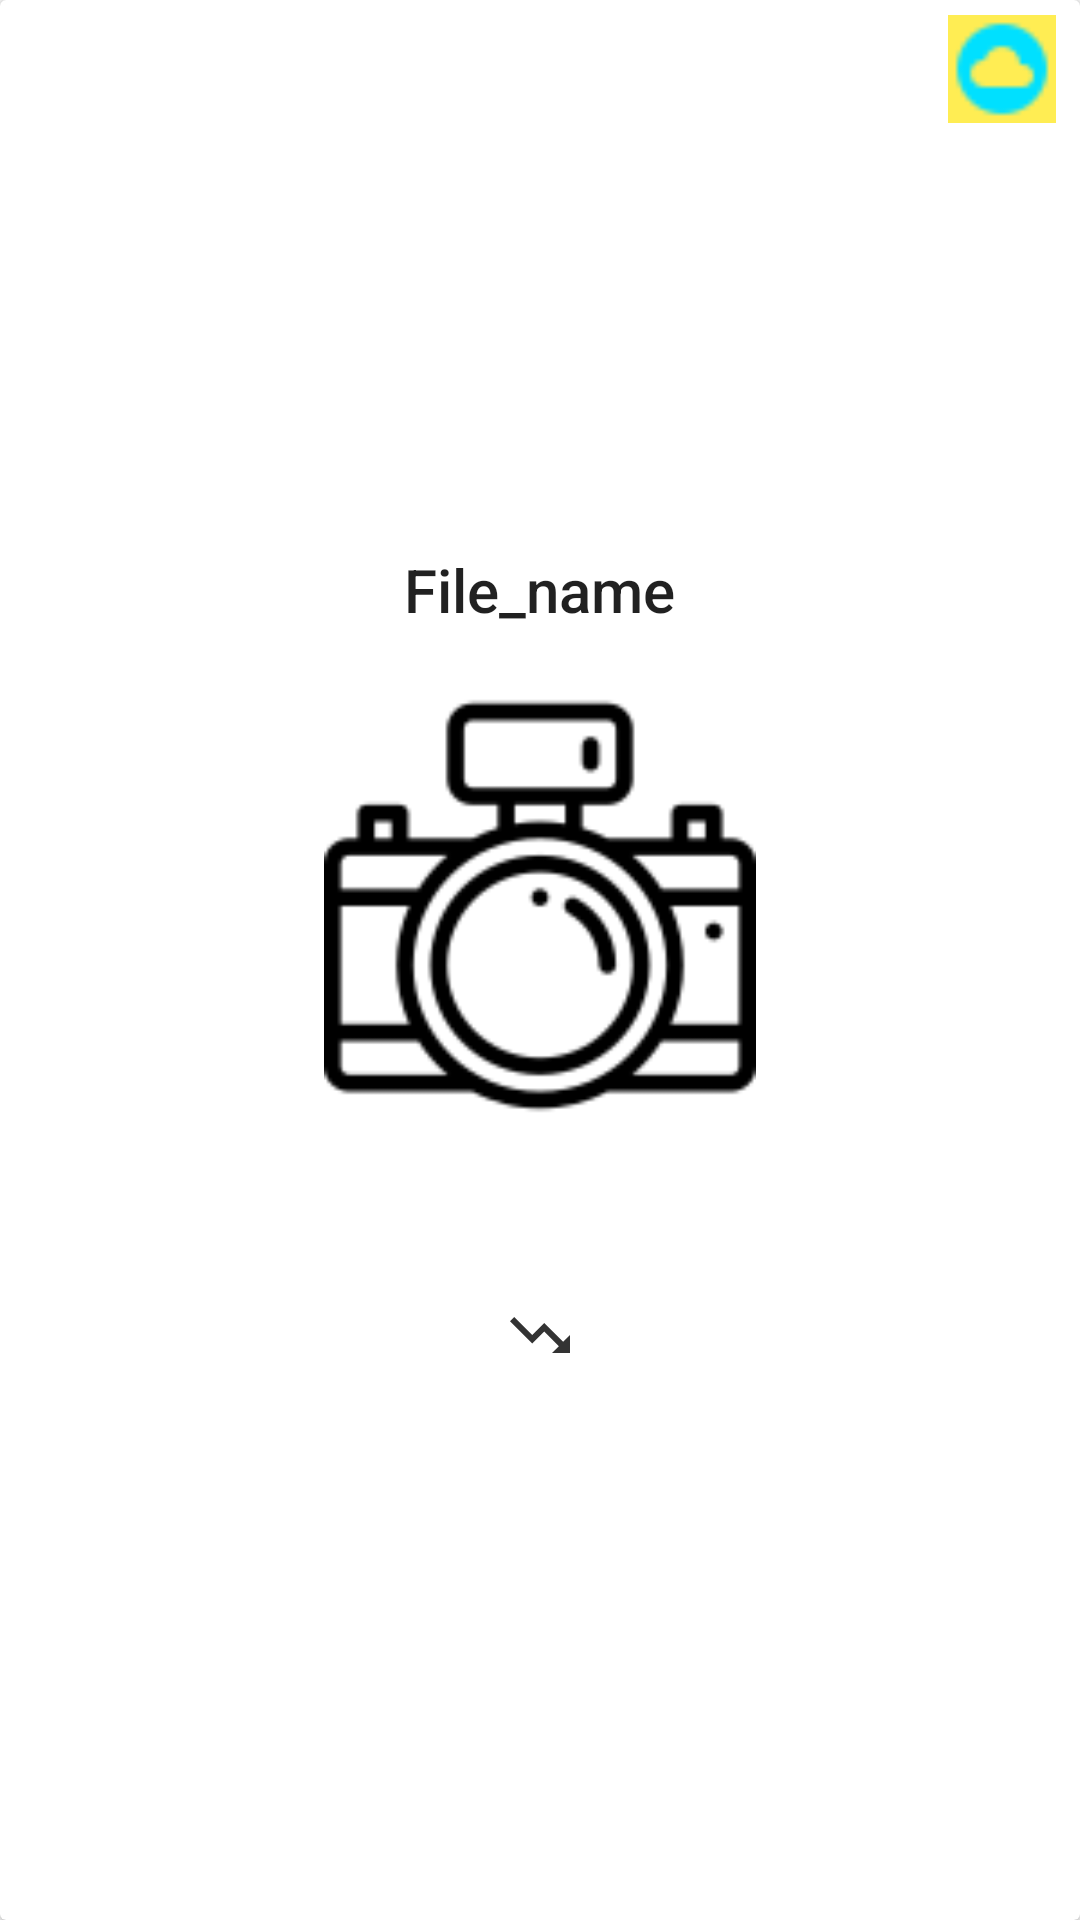

Named icons in this screenshot (1080*1920) and their centers, (x,y):
cloud storage: (1002,69)
